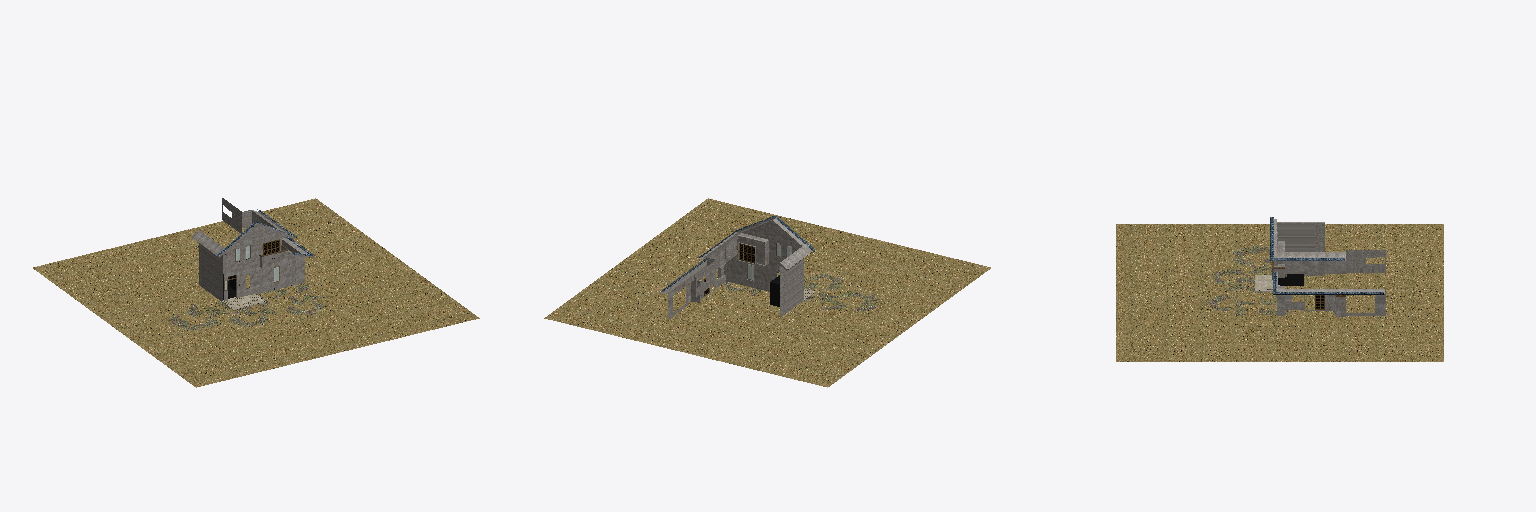
3 views of the same model, side by side, from view 1: azimuth 30°, elevation 25°; view 2: azimuth 150°, elevation 25°; view 3: azimuth 270°, elevation 25° (orthographic).
Parts seen in each view (by area): view 1: polygon5, polygon11, polygon6, polygon134; view 2: polygon5, polygon11, polygon134, polygon6; view 3: polygon5, polygon11, polygon6, polygon134, polygon12.
Part boxes in pixels (x1,y1,x2,y2): polygon5: (33, 198, 479, 387); polygon11: (199, 198, 313, 300); polygon6: (169, 283, 323, 330); polygon134: (192, 210, 295, 257); polygon5: (544, 198, 990, 387); polygon11: (661, 220, 803, 319); polygon134: (699, 216, 812, 299); polygon6: (721, 274, 877, 310); polygon5: (1116, 224, 1443, 361); polygon11: (1272, 224, 1385, 316); polygon6: (1206, 246, 1293, 315); polygon134: (1274, 219, 1345, 310); polygon12: (1270, 217, 1383, 294).
Size of the model in its own units: 30 by 7.59 by 30.
Materials: 20 (14 with a texture image).